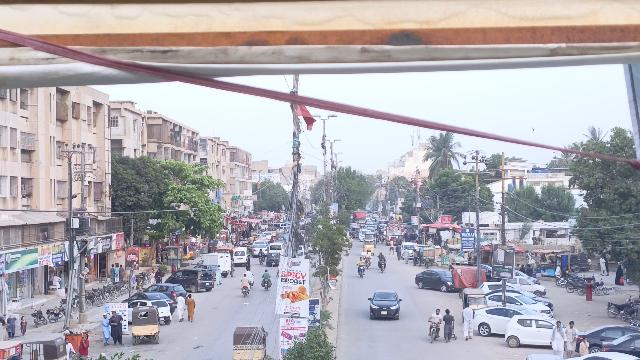Bike: (427, 321, 441, 345), (239, 284, 252, 300), (357, 263, 366, 279), (261, 279, 271, 293), (378, 260, 387, 275)
Car: (472, 306, 535, 336), (504, 311, 550, 349), (165, 268, 215, 293), (368, 287, 402, 321), (413, 267, 453, 291), (600, 330, 640, 352), (579, 323, 631, 339)
Person: (459, 301, 475, 340), (549, 319, 566, 355), (108, 309, 123, 346), (564, 320, 577, 356), (442, 308, 454, 343), (174, 291, 186, 322), (185, 292, 197, 323), (99, 311, 110, 344), (78, 333, 90, 356), (578, 335, 590, 355), (428, 306, 442, 321), (261, 267, 271, 280), (240, 272, 250, 285), (357, 255, 365, 265), (379, 254, 386, 263)
Rickshaw: (230, 324, 270, 360), (129, 305, 162, 346), (460, 288, 487, 309)
